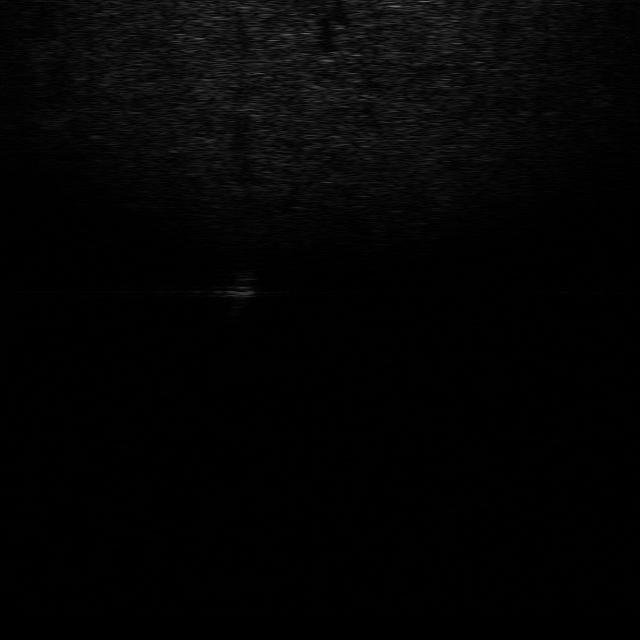human body: (220, 263, 256, 322)
